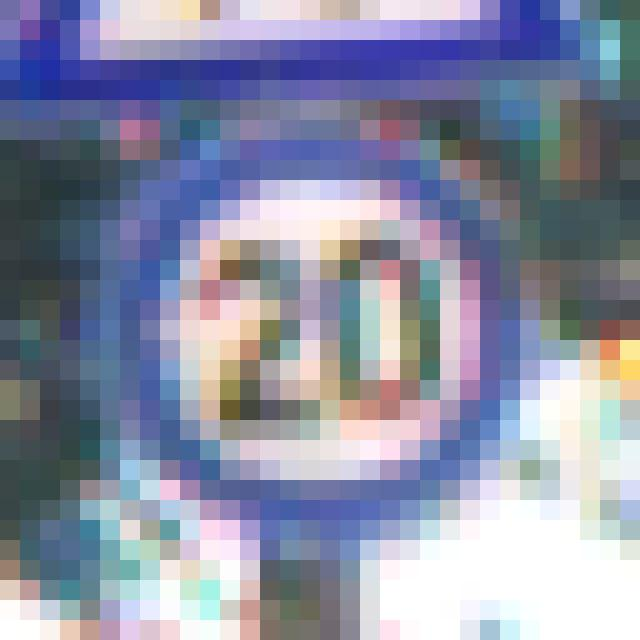SPEED LIMIT 20: (120, 149, 508, 515)
